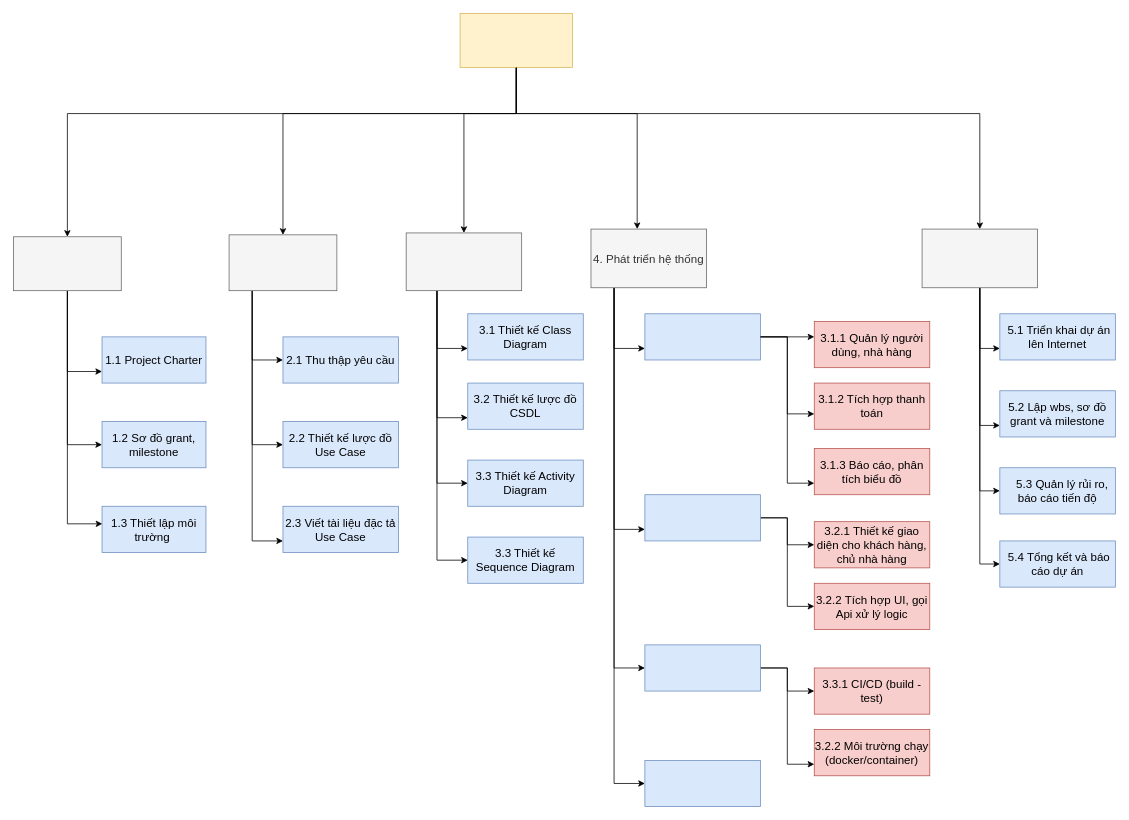
Some shapes in this 1129 by 820 pixel diagram are drawn without their labels. Here are the shapes that lost their labels. From the top down, the centre of each, then its label:
At pixel 515 40: "OrderFood Website".
At pixel 67 263: "1.Khời động dự án".
At pixel 282 262: "2. Yêu cầu và phân tích".
At pixel 463 261: "3. Thiết kế hệ thống".
At pixel 979 258: "5. Quản lý và triển khai dự án".
At pixel 702 336: "3.1 Phát triển backend".
At pixel 702 517: "3.2 Phát triển frontend".
At pixel 702 667: "3.3 Phát triển hạ tầng".
At pixel 702 783: "3.4 Kiểm thử chức năng".
